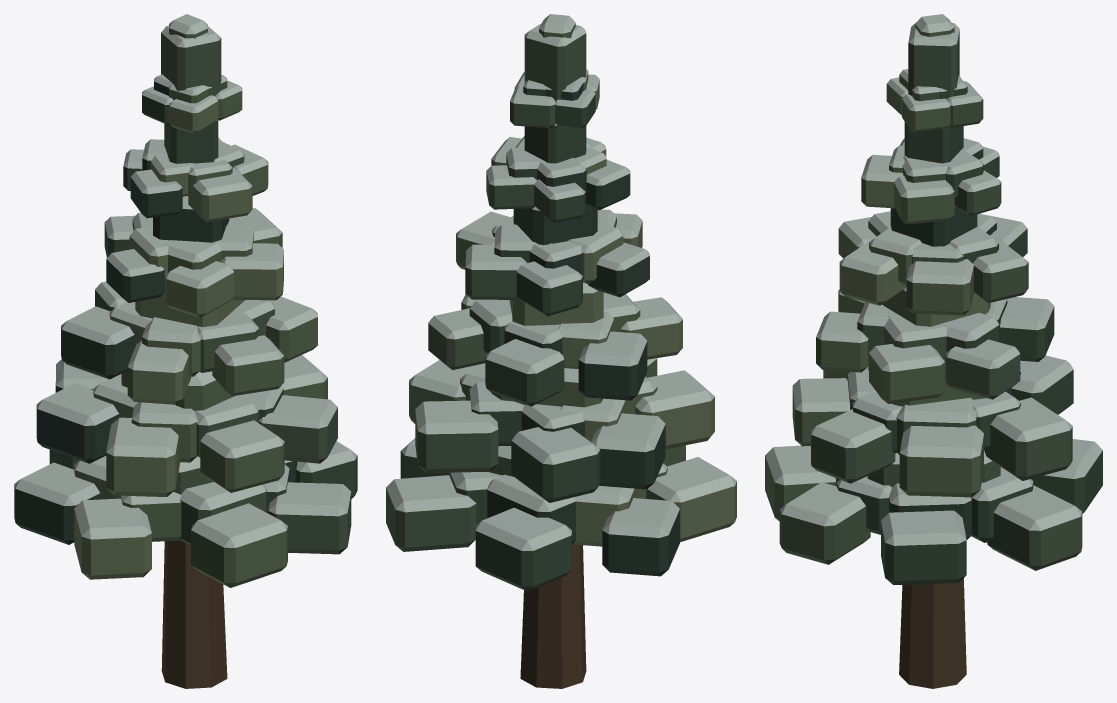
File: pine_mature_winter.glb
The picture shows the model from 3 angles, left to right: view 1: azimuth 30°, elevation 25°; view 2: azimuth 150°, elevation 25°; view 3: azimuth 270°, elevation 25°; orthographic projection.
Visible parts, largest first — view 1: pine_mature_winter; view 2: pine_mature_winter; view 3: pine_mature_winter.
Part boxes in pixels (box(x1,y1,x2,y2)): pine_mature_winter: box(14, 14, 357, 688); pine_mature_winter: box(386, 14, 736, 688); pine_mature_winter: box(765, 14, 1102, 688).
Bounding box in the file's own units: 9.28 × 20 × 9.38.
